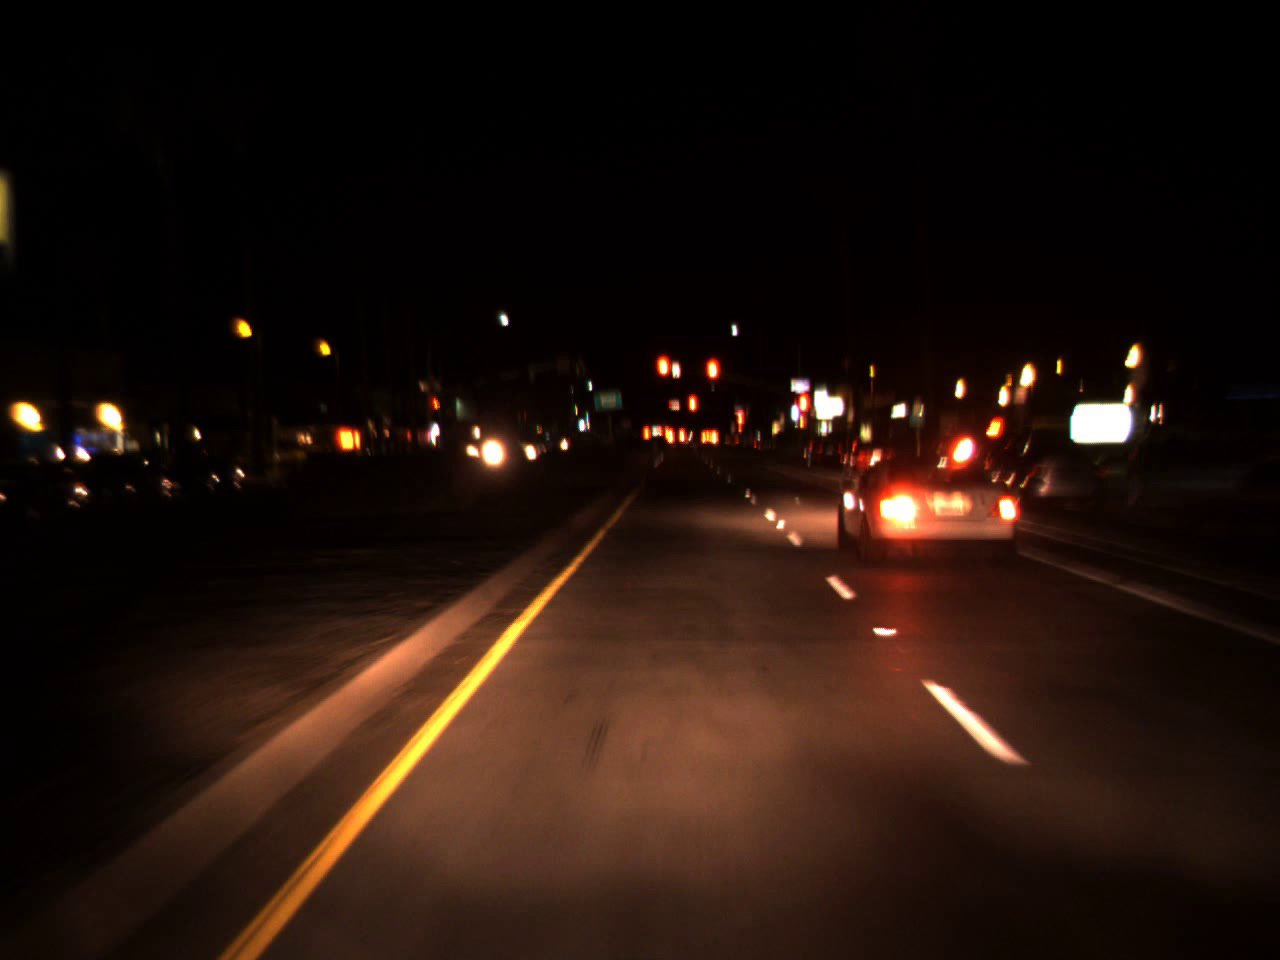stop: (653, 352, 675, 403), (703, 354, 722, 405), (734, 404, 744, 463), (686, 393, 699, 425), (795, 395, 807, 424), (431, 395, 441, 427)
